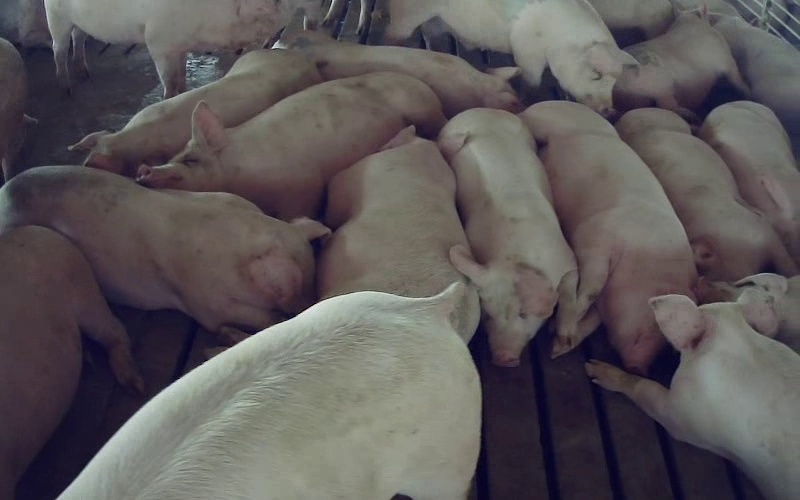pig: (61, 284, 480, 499), (521, 102, 696, 373), (138, 72, 445, 219), (587, 289, 799, 499), (0, 226, 142, 499), (438, 108, 576, 365), (69, 50, 321, 174), (615, 108, 795, 281), (385, 0, 635, 113), (317, 126, 467, 298), (45, 0, 287, 97), (278, 30, 518, 116), (700, 101, 799, 266), (613, 7, 748, 117), (710, 13, 799, 158)
